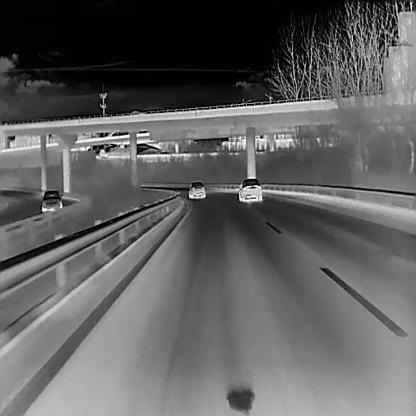car: (237, 177, 263, 202), (41, 190, 63, 212), (188, 181, 205, 199)
